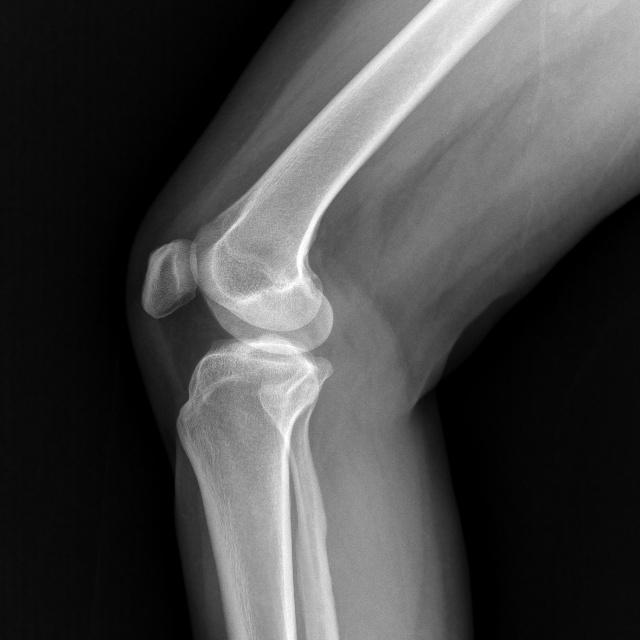Knee: (141, 240, 333, 444)
